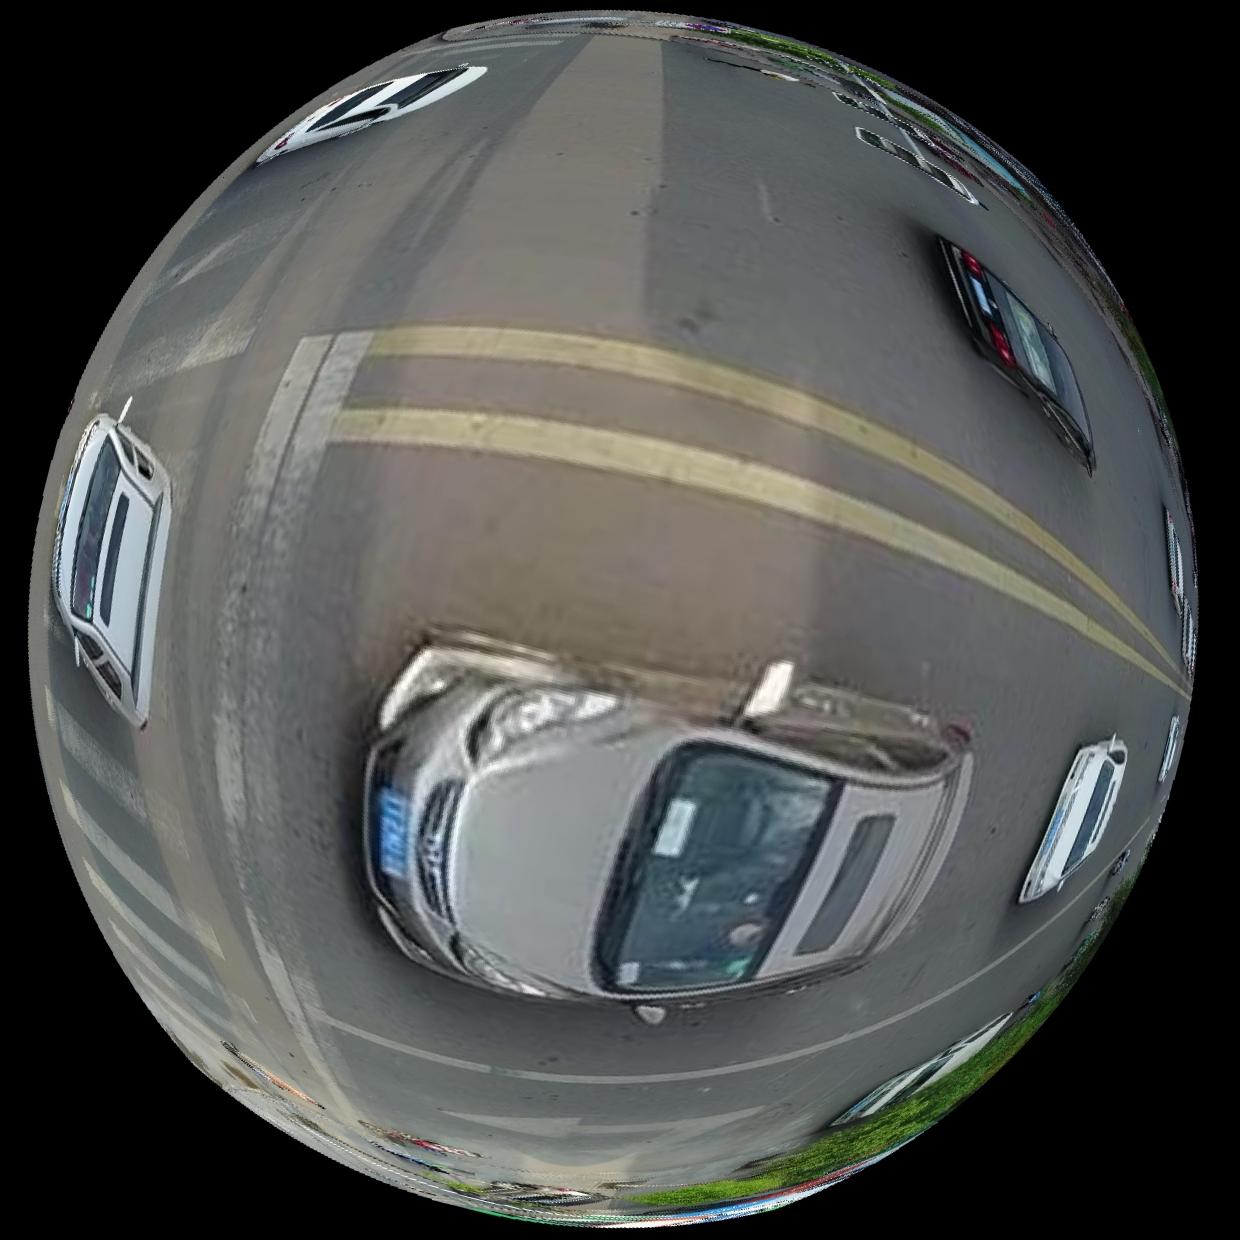cars: (360, 629, 972, 1007), (937, 234, 1096, 474), (48, 411, 167, 726), (253, 60, 485, 161), (830, 1014, 1012, 1126), (1019, 735, 1130, 903), (1164, 505, 1185, 612), (1157, 713, 1181, 784)
